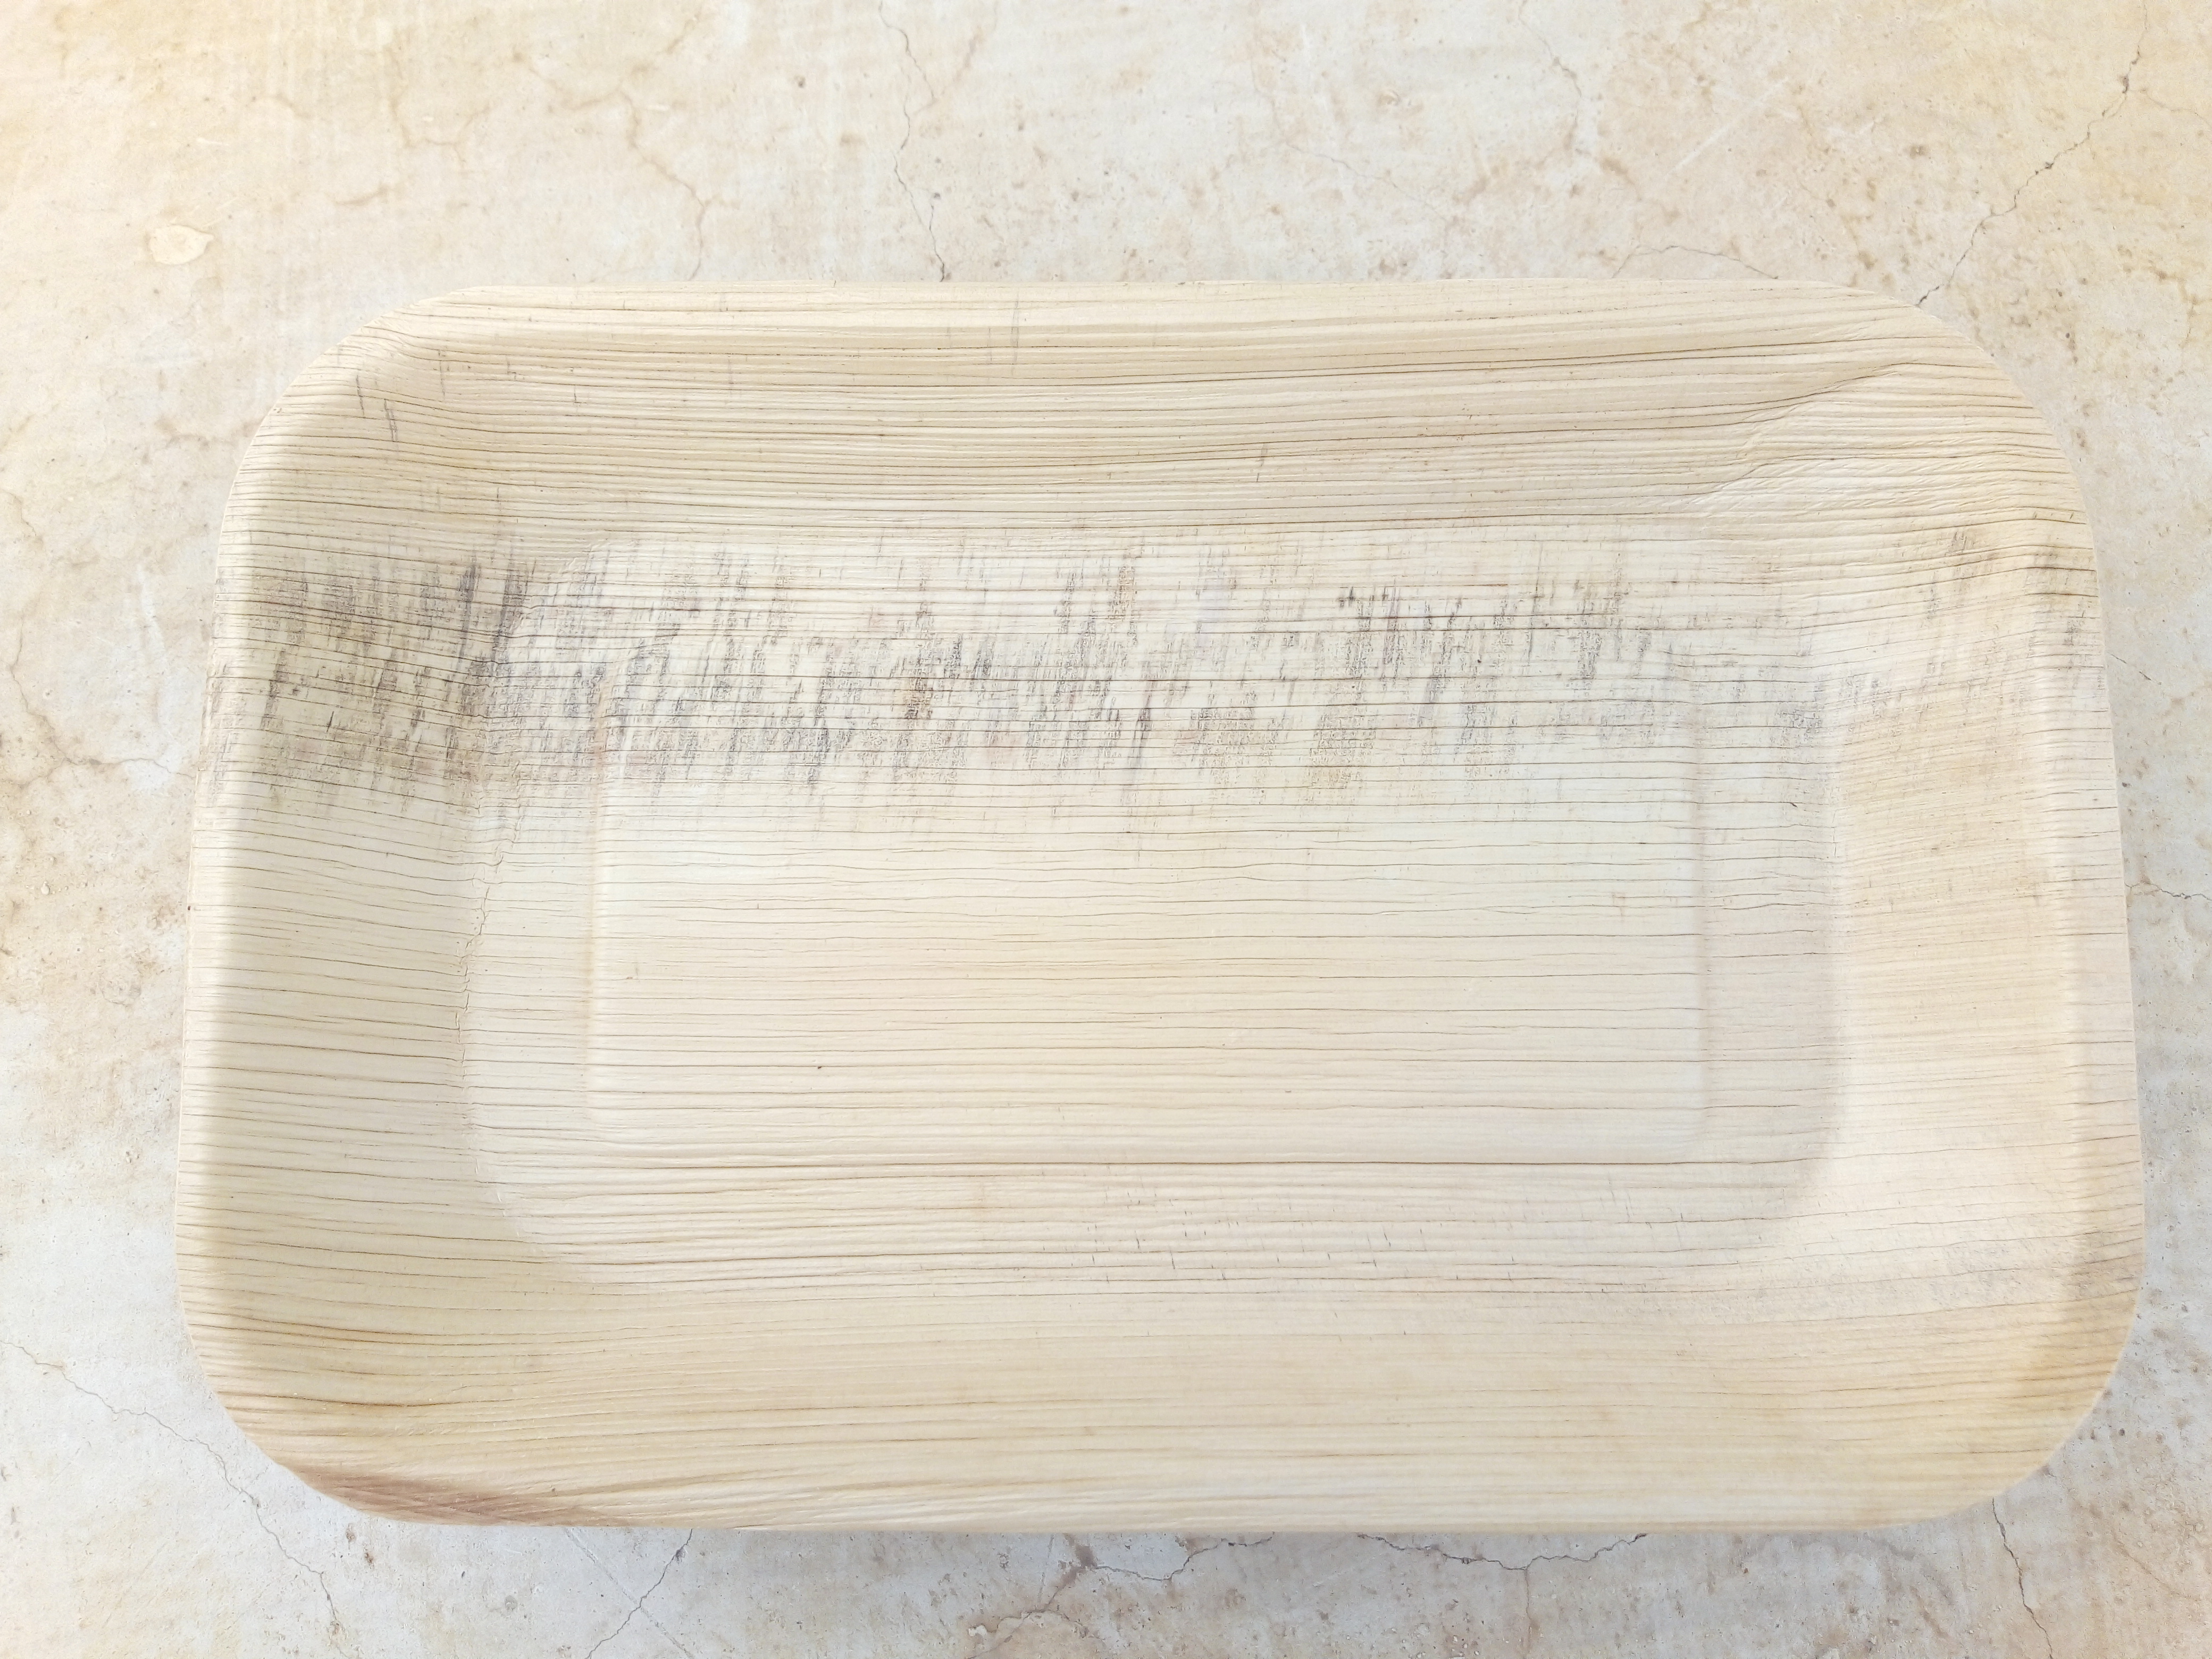areca plate: (185, 289, 2132, 1535)
